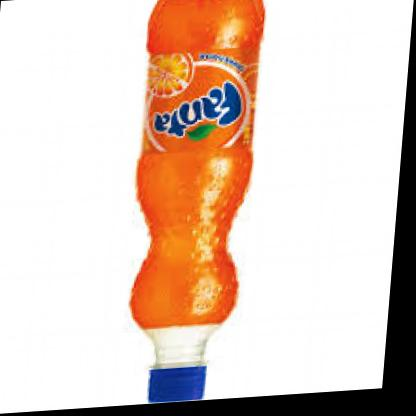Plastic: (119, 0, 268, 406)
